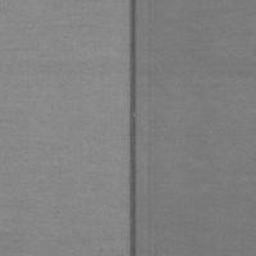Welding line: (127, 0, 137, 256)
